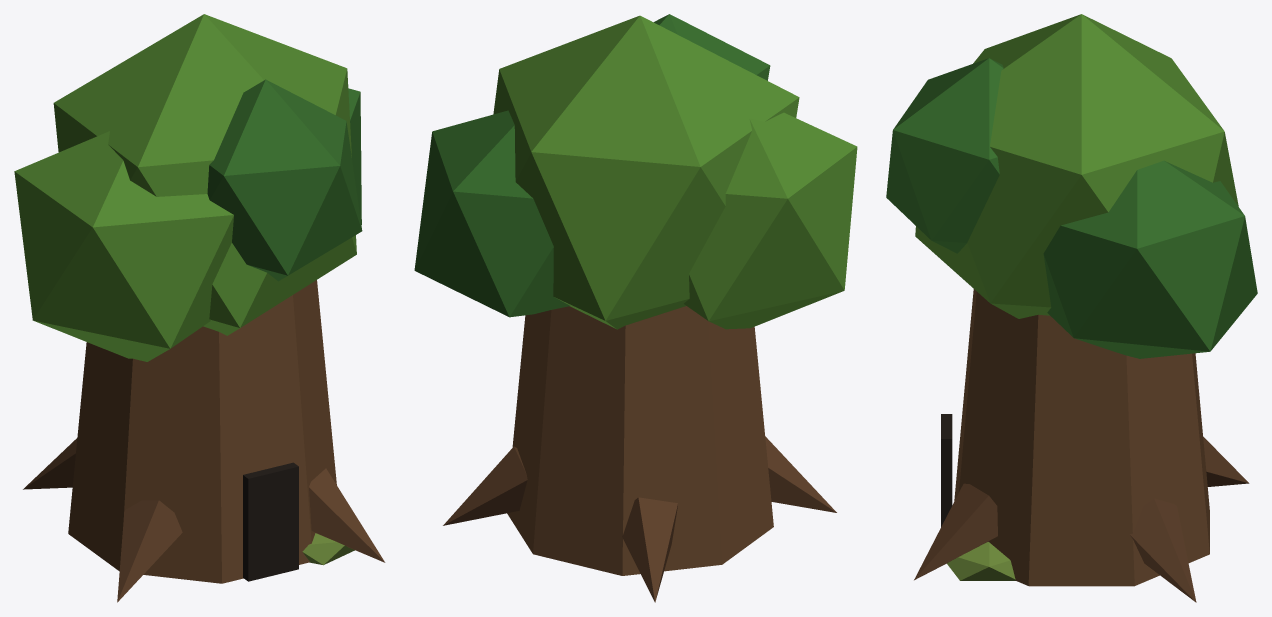
Rendered from treekin_house_b.glb.
The picture shows the model from 3 angles, left to right: view 1: azimuth 30°, elevation 25°; view 2: azimuth 150°, elevation 25°; view 3: azimuth 270°, elevation 25°; orthographic projection. The views are drawn at different scales.
Parts seen in each view (by area): view 1: treekin_house_b; view 2: treekin_house_b; view 3: treekin_house_b.
Boxes of the visible parts, x1,y1,x2,y2 form: treekin_house_b: (14,14,385,602); treekin_house_b: (414,14,857,602); treekin_house_b: (886,14,1257,602).
Bounding box in the file's own units: 2.36 × 3.16 × 2.01.
